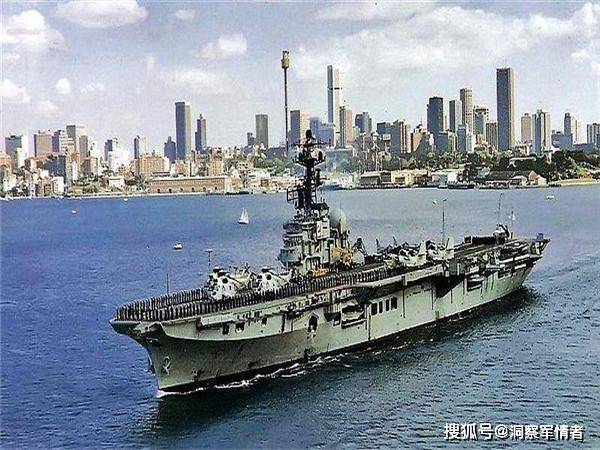warship: (106, 143, 540, 392)
